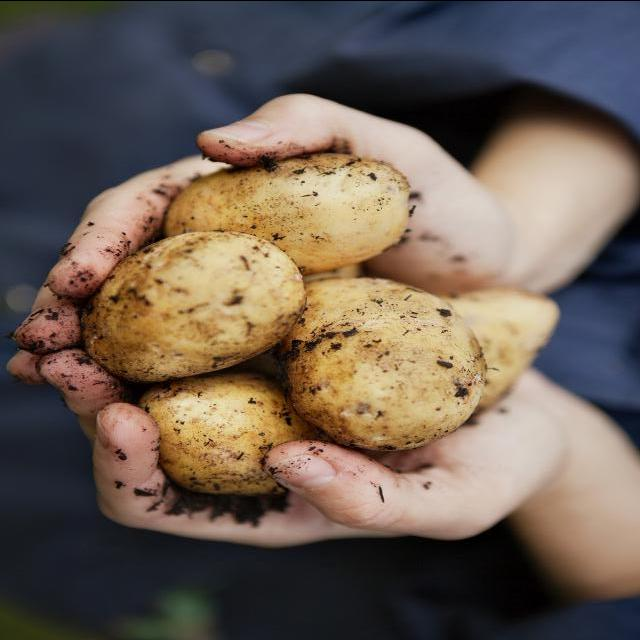potato: (288, 276, 488, 449), (82, 233, 308, 378), (159, 155, 414, 273), (144, 383, 312, 489), (445, 293, 556, 407)
